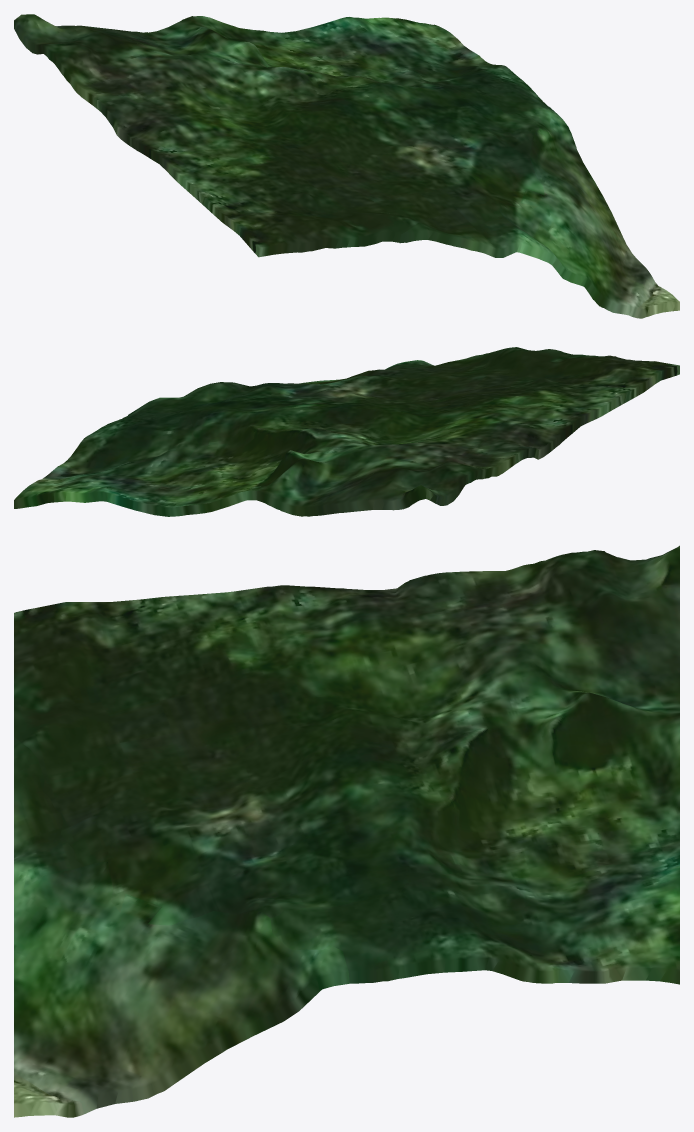
File: z20-167563-405173-h0-yup-uvflip-v3-world.glb
3 views of the same model, one above another, from view 1: azimuth 30°, elevation 25°; view 2: azimuth 150°, elevation 25°; view 3: azimuth 270°, elevation 25° (orthographic). The views are drawn at different scales.
Size of the model in its own units: 30.16 by 14.92 by 30.32.
1 material, 1 textured.
